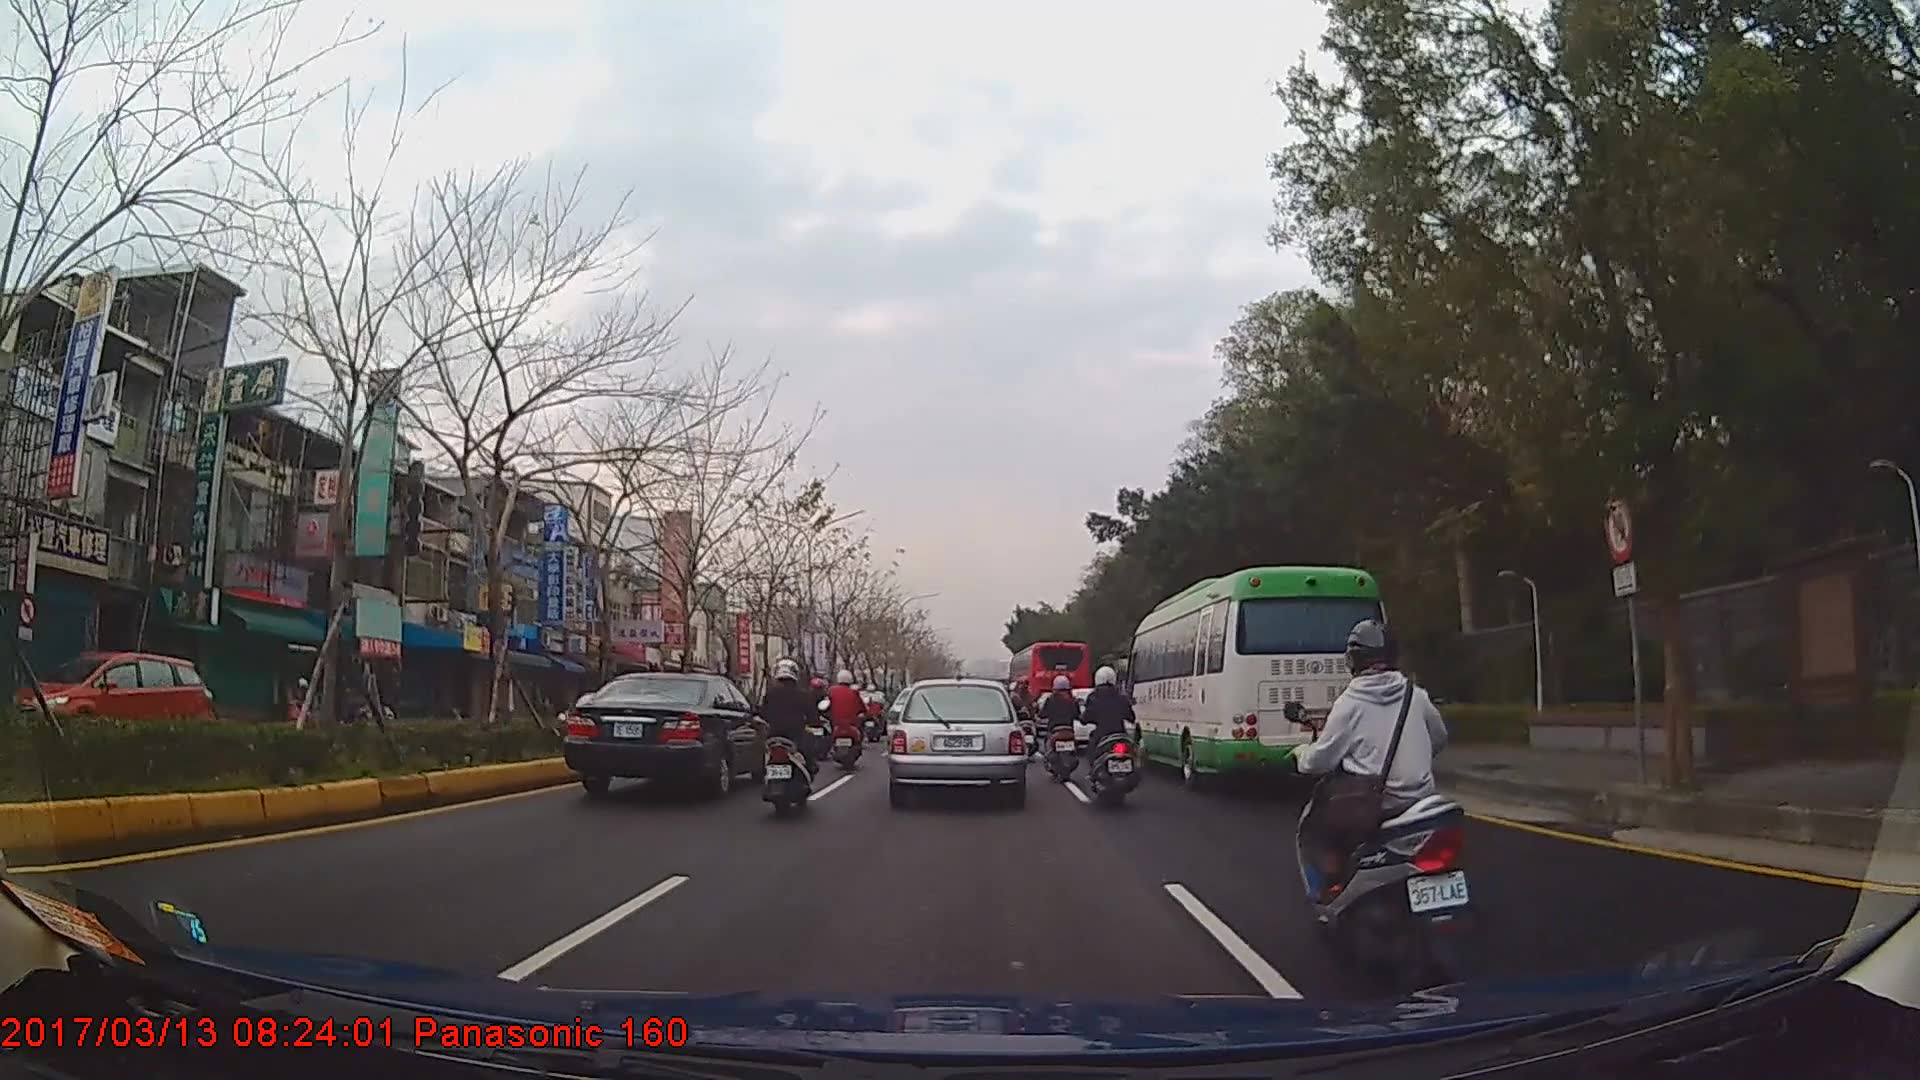rider: (1282, 619, 1473, 975), (755, 655, 828, 814), (1080, 670, 1146, 808), (1040, 672, 1085, 783), (826, 668, 868, 770), (803, 676, 836, 762), (1011, 675, 1040, 757), (281, 678, 312, 723), (863, 682, 887, 730)
vehicle: (1124, 561, 1397, 795), (561, 670, 773, 795), (8, 651, 214, 752), (886, 676, 1027, 805), (1005, 637, 1090, 733)
